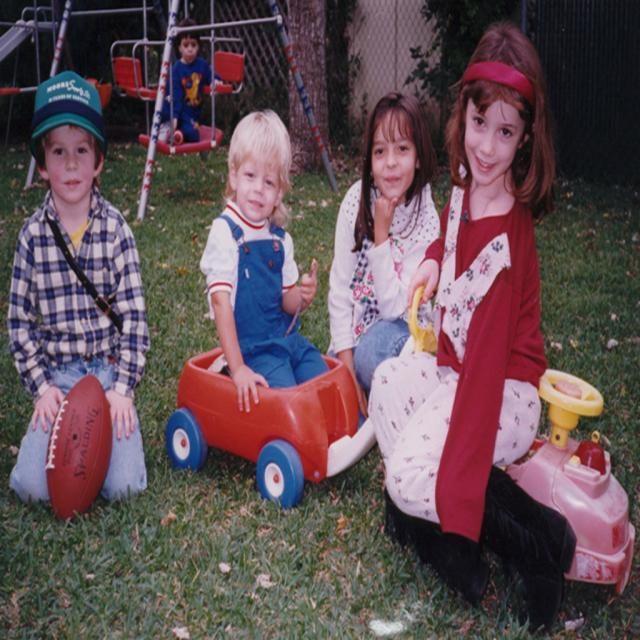Toy: (406, 277, 636, 598), (163, 339, 377, 517), (41, 370, 122, 536)
